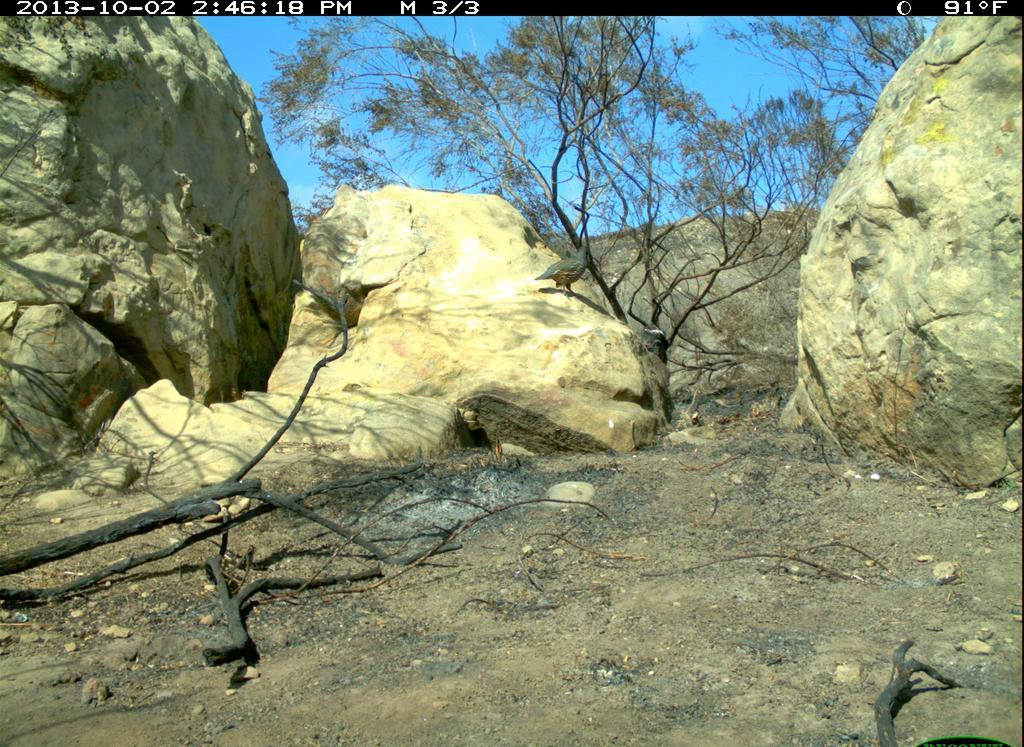bird: (537, 244, 600, 300)
